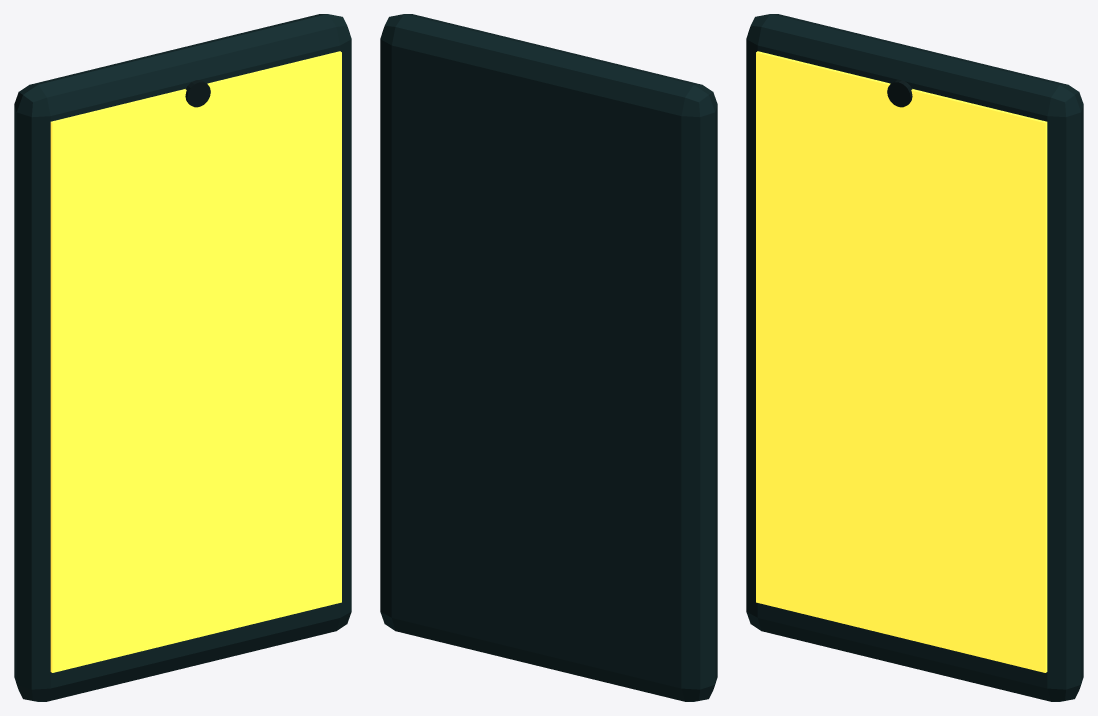
Rendered from phone.glb.
3 views of the same model, side by side, from view 1: azimuth 30°, elevation 25°; view 2: azimuth 150°, elevation 25°; view 3: azimuth 330°, elevation 25° (orthographic).
Visible parts, largest first — view 1: phone_screen, phone_body, phone_camera; view 2: phone_body; view 3: phone_screen, phone_body, phone_camera.
Boxes of the visible parts, x1,y1,x2,y2 form: phone_screen: [50, 51, 341, 672]; phone_body: [14, 14, 351, 701]; phone_camera: [185, 80, 210, 107]; phone_body: [380, 14, 717, 701]; phone_screen: [756, 51, 1047, 672]; phone_body: [746, 14, 1083, 701]; phone_camera: [887, 80, 912, 107].
Bounding box in the file's own units: 0.62 × 1.1 × 0.092.
